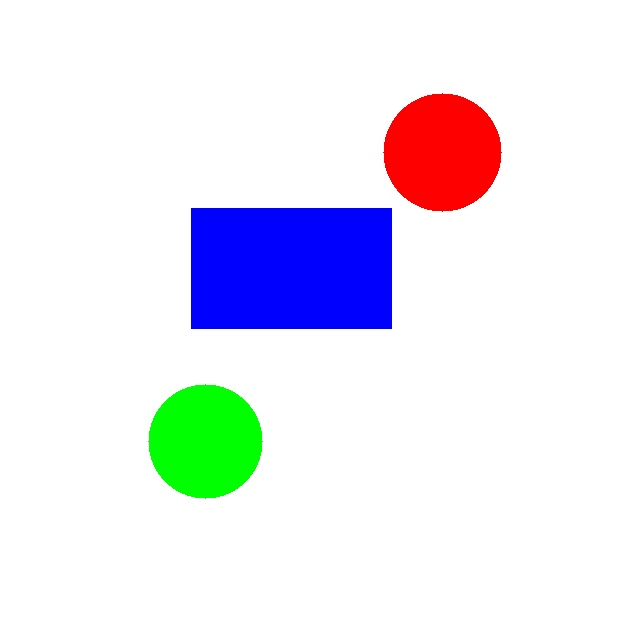cartao: (191, 208, 391, 328)
rosca_externa: (148, 384, 262, 498)
rosca_interna: (383, 93, 501, 211)
